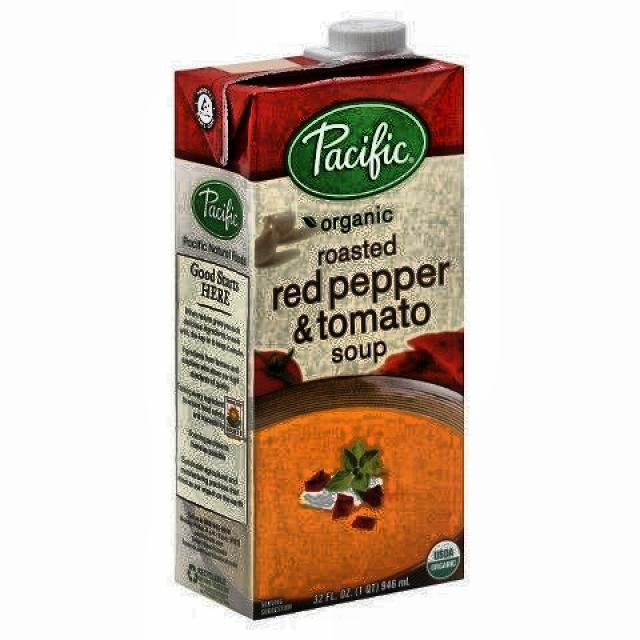cardboard: (172, 22, 466, 618)
